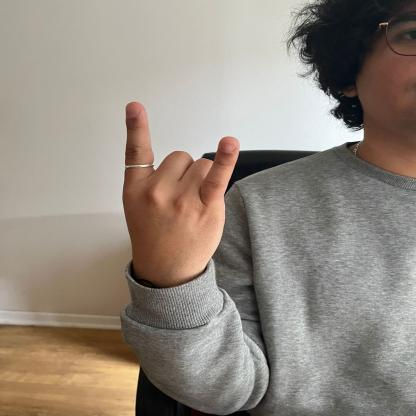U: (117, 97, 245, 268)
